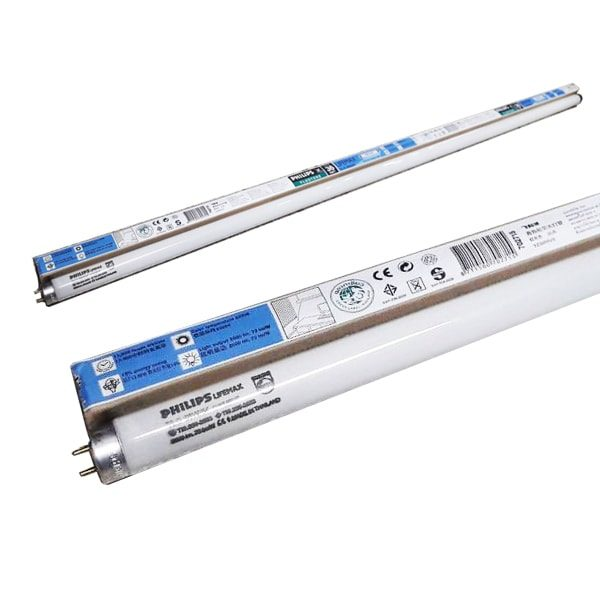Light_bulb: (68, 241, 600, 494), (28, 89, 585, 312)
